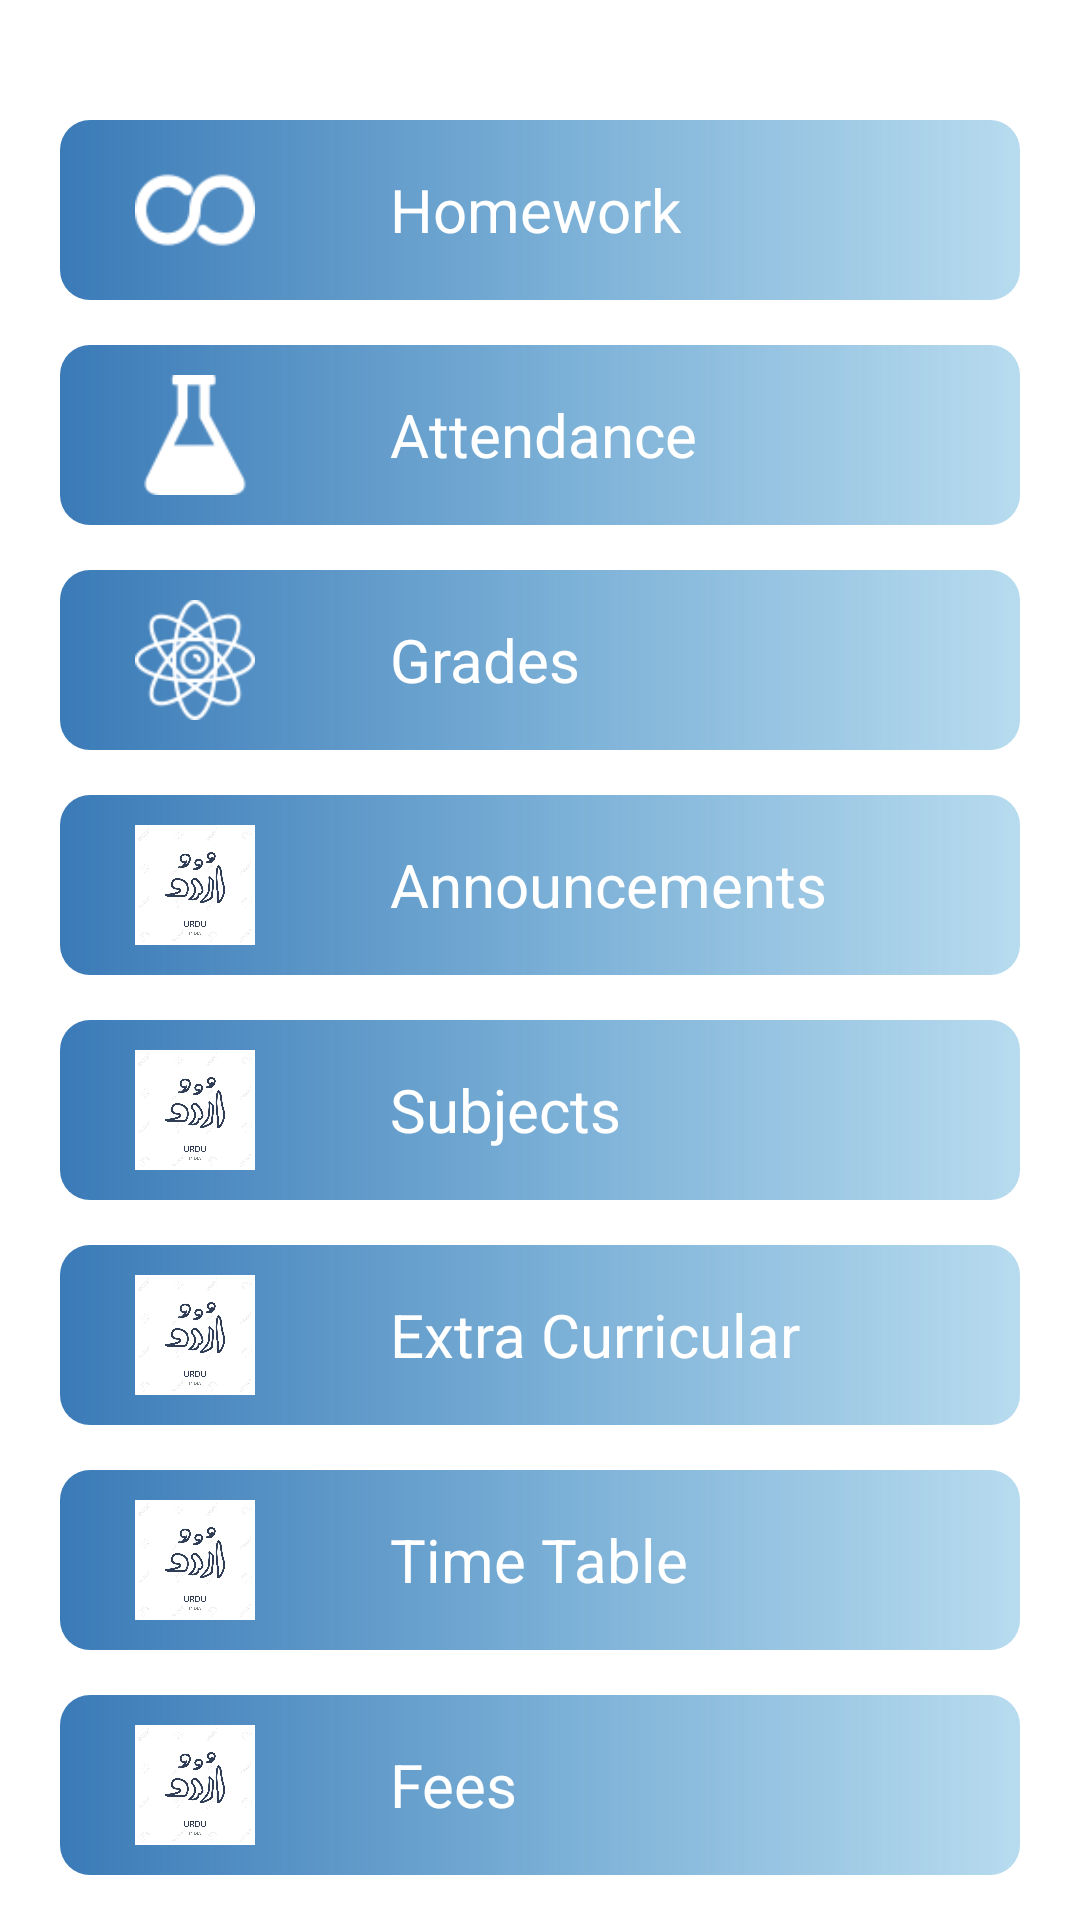

Locate icon controls on the screen. Image size 1080w x 1920h, boxes as (x1, y1, x2, y2).
chemistry: (144, 375, 246, 495)
math: (135, 174, 255, 246)
physics: (135, 600, 270, 720)
